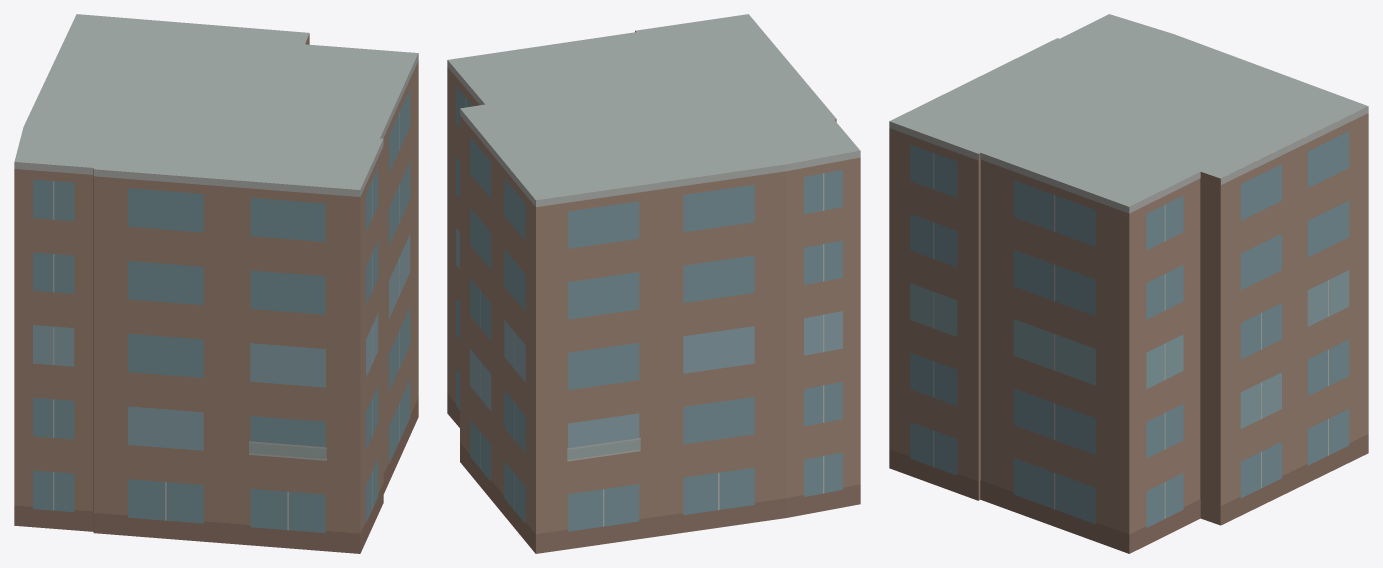
File: survey-upis-32991640.glb
The picture shows the model from 3 angles, left to right: view 1: azimuth 30°, elevation 25°; view 2: azimuth 150°, elevation 25°; view 3: azimuth 270°, elevation 25°; orthographic projection. The views are drawn at different scales.
Visible parts, largest first — view 1: survey-upis-32991640.tmp; view 2: survey-upis-32991640.tmp; view 3: survey-upis-32991640.tmp.
Boxes of the visible parts, <box> form: survey-upis-32991640.tmp: <box>14,14,418,553</box>; survey-upis-32991640.tmp: <box>447,14,860,553</box>; survey-upis-32991640.tmp: <box>889,14,1368,553</box>.
Bounding box in the file's own units: 15.16 × 12.7 × 15.91.
